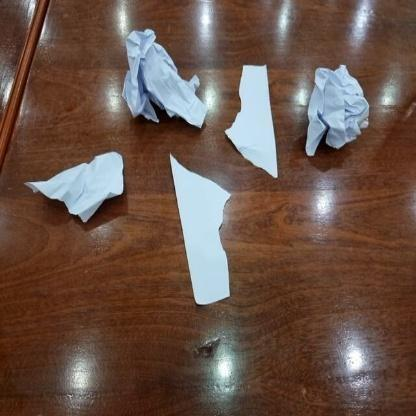trash: (164, 151, 240, 307), (115, 20, 213, 133), (20, 149, 136, 231), (301, 62, 372, 170), (224, 59, 282, 180)
